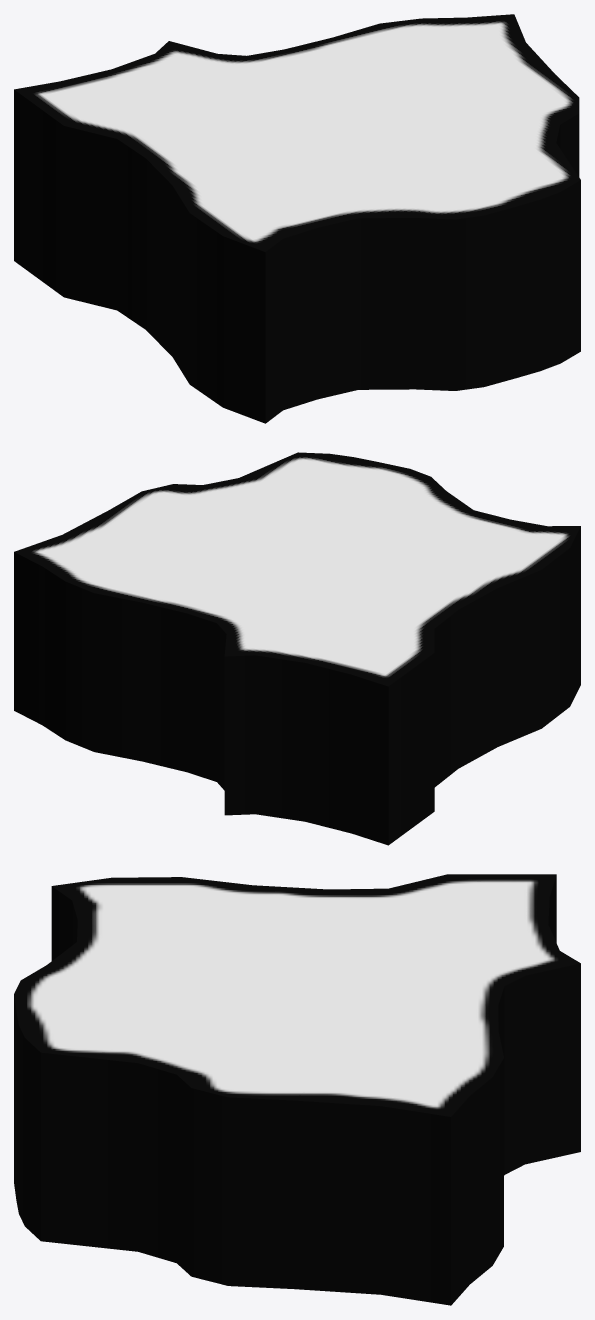
The picture shows the model from 3 angles, top to bottom: view 1: azimuth 30°, elevation 25°; view 2: azimuth 150°, elevation 25°; view 3: azimuth 270°, elevation 25°; orthographic projection. The views are drawn at different scales.
Visible parts, largest first — view 1: polySurface34; view 2: polySurface34; view 3: polySurface34.
Part boxes in pixels (x1,y1,x2,y2): polySurface34: (14, 14, 580, 423); polySurface34: (14, 452, 580, 845); polySurface34: (14, 874, 580, 1305).
Size of the model in its own units: 1.38 by 0.5 by 1.36.
